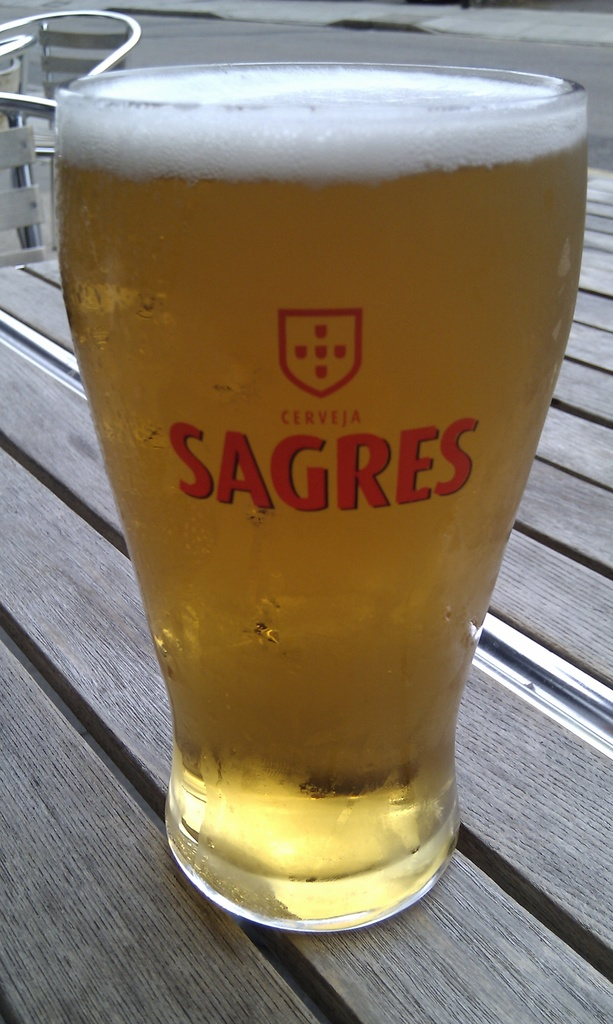Beer: (52, 63, 582, 943)
